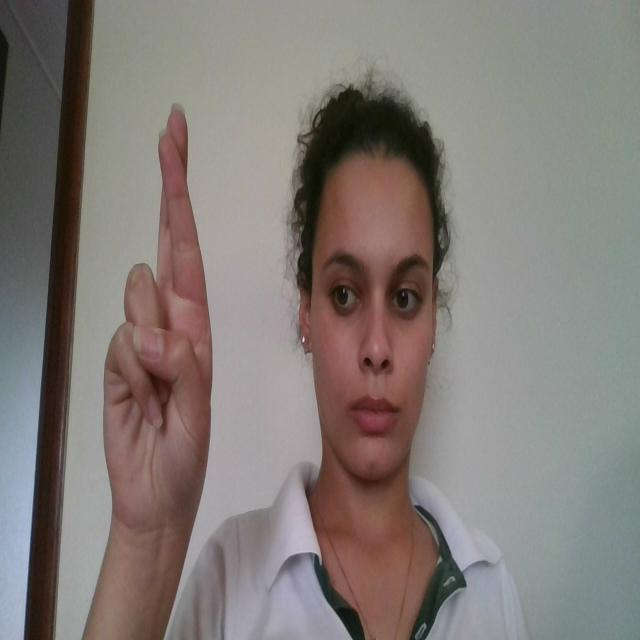R: (101, 98, 217, 526)
